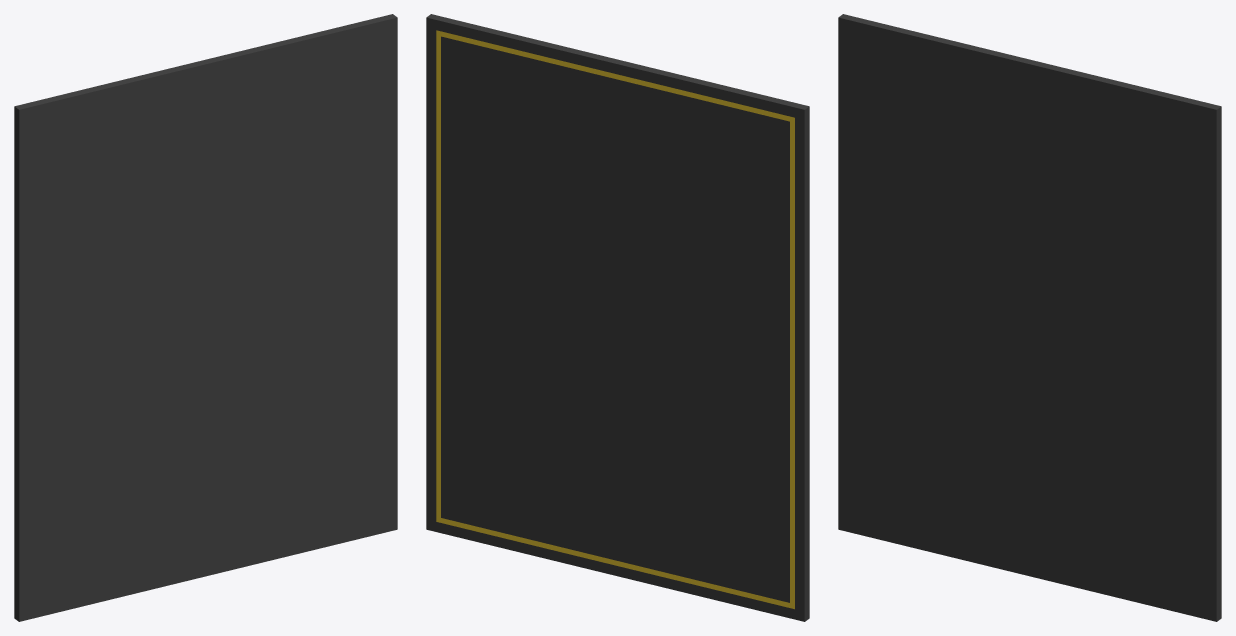
The model's file is MENU.fbx.
The picture shows the model from 3 angles, left to right: view 1: azimuth 30°, elevation 25°; view 2: azimuth 150°, elevation 25°; view 3: azimuth 330°, elevation 25°; orthographic projection.
Parts seen in each view (by area): view 1: MENU; view 2: MENU; view 3: MENU.
Boxes of the visible parts, box(x1,y1,x2,y2) form: MENU: box(14, 14, 397, 621); MENU: box(426, 14, 809, 621); MENU: box(838, 14, 1221, 621).
Bounding box in the file's own units: 68.71 × 88.85 × 1.52.
